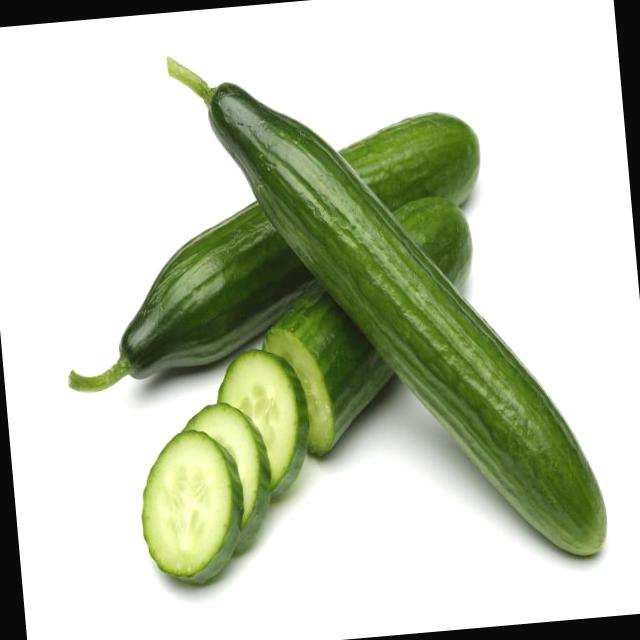Cucumber: (177, 20, 605, 586), (100, 196, 322, 376)
